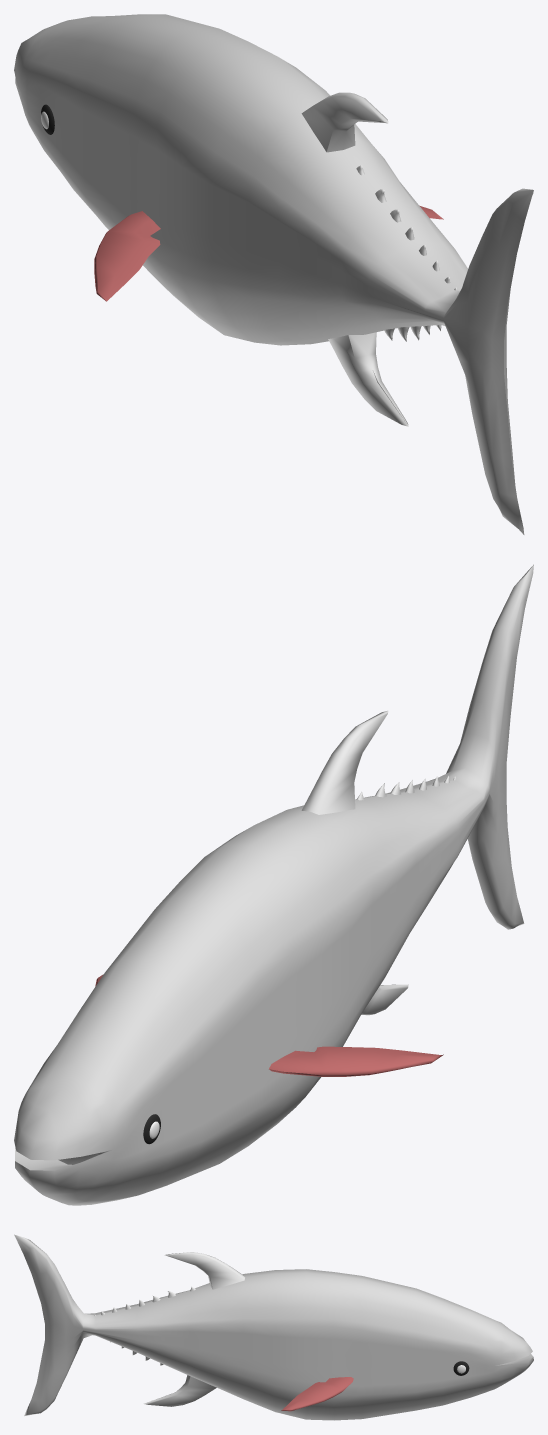
Rendered from Tuna.fbx.
3 views of the same model, one above another, from view 1: azimuth 30°, elevation 25°; view 2: azimuth 150°, elevation 25°; view 3: azimuth 270°, elevation 25° (orthographic). The views are drawn at different scales.
Parts seen in each view (by area): view 1: Tuna Torso, Pectoral Fin, Anal Fin, Dorsal Fin, Finlet; view 2: Tuna Torso, Pectoral Fin, Dorsal Fin, Anal Fin; view 3: Tuna Torso, Dorsal Fin, Pectoral Fin, Anal Fin, Finlet.
Part boxes in pixels (x1=…): Tuna Torso: x1=14, y1=14, x2=533, y2=534; Pectoral Fin: x1=94, y1=205, x2=443, y2=301; Anal Fin: x1=328, y1=332, x2=408, y2=426; Dorsal Fin: x1=301, y1=92, x2=388, y2=152; Finlet: x1=356, y1=165, x2=456, y2=341; Tuna Torso: x1=14, y1=564, x2=533, y2=1205; Pectoral Fin: x1=95, y1=974, x2=443, y2=1076; Dorsal Fin: x1=301, y1=710, x2=388, y2=814; Anal Fin: x1=361, y1=984, x2=408, y2=1015; Tuna Torso: x1=14, y1=1234, x2=533, y2=1420; Dorsal Fin: x1=164, y1=1252, x2=244, y2=1289; Pectoral Fin: x1=281, y1=1377, x2=353, y2=1411; Anal Fin: x1=143, y1=1375, x2=216, y2=1406; Finlet: x1=94, y1=1286, x2=195, y2=1365.
Bounding box in the file's own units: 141 × 144 × 366.
